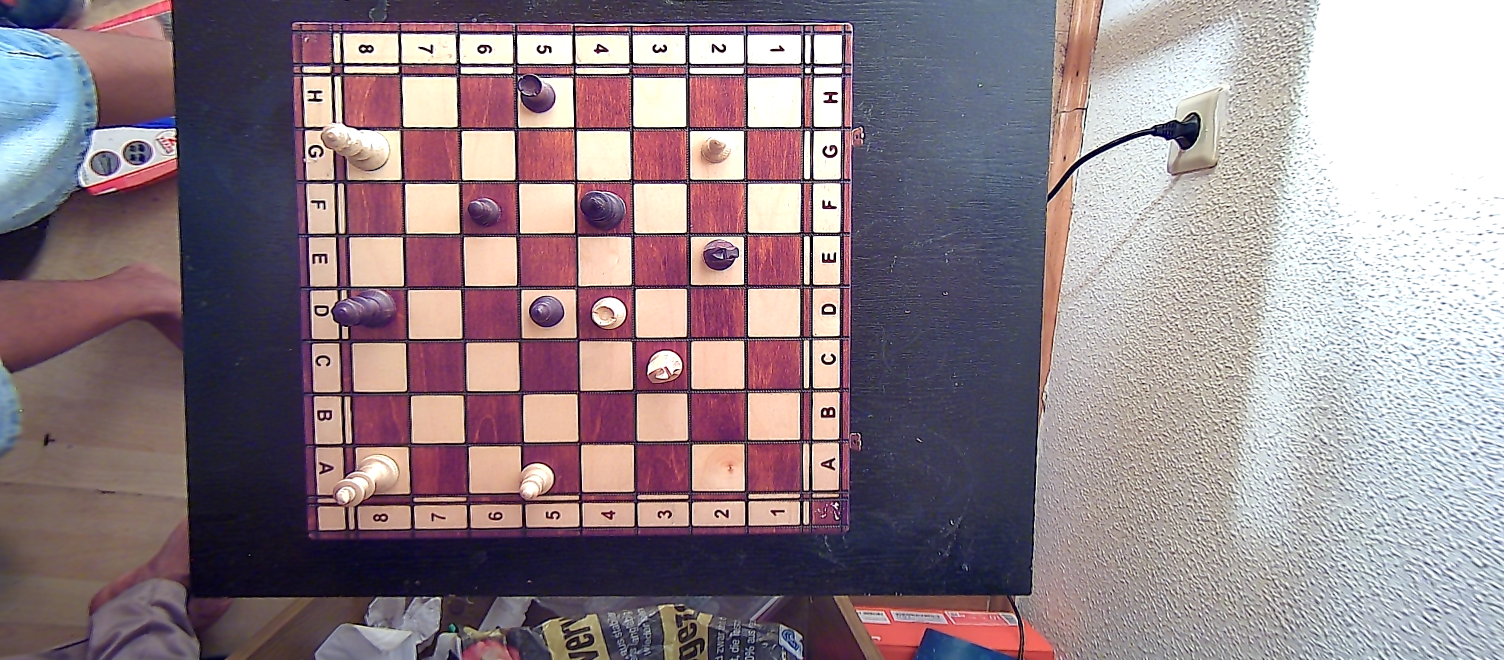black-bishop: (526, 292, 566, 331)
black-king: (576, 185, 627, 234)
black-knight: (697, 235, 743, 275)
black-pawn: (465, 191, 504, 231)
black-queen: (328, 292, 399, 330)
black-rook: (512, 69, 558, 115)
white-bishop: (514, 460, 557, 504)
white-king: (332, 453, 403, 507)
white-knight: (643, 346, 685, 387)
white-pawn: (697, 133, 731, 165)
white-queen: (319, 119, 393, 173)
white-rook: (588, 295, 628, 333)
